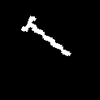half_double_crochet: (21, 16, 70, 55)
